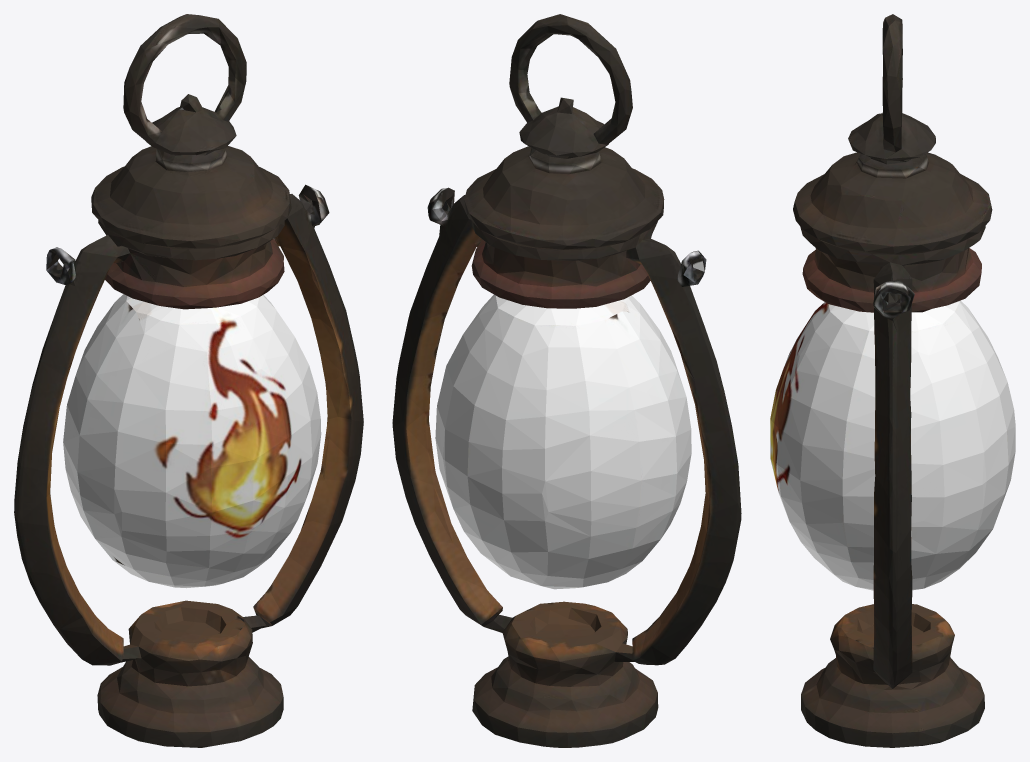
The model's file is lantern_item.glb.
The picture shows the model from 3 angles, left to right: view 1: azimuth 30°, elevation 25°; view 2: azimuth 150°, elevation 25°; view 3: azimuth 270°, elevation 25°; orthographic projection.
Parts seen in each view (by area): view 1: tmpqd8ifo9z.ply; view 2: tmpqd8ifo9z.ply; view 3: tmpqd8ifo9z.ply.
Boxes of the visible parts, x1=… form: tmpqd8ifo9z.ply: x1=14, y1=14, x2=363, y2=747; tmpqd8ifo9z.ply: x1=392, y1=14, x2=741, y2=747; tmpqd8ifo9z.ply: x1=770, y1=14, x2=1015, y2=747.
Bounding box in the file's own units: 1.05 × 1.99 × 0.6447.
Materials: 1 (1 with a texture image).
